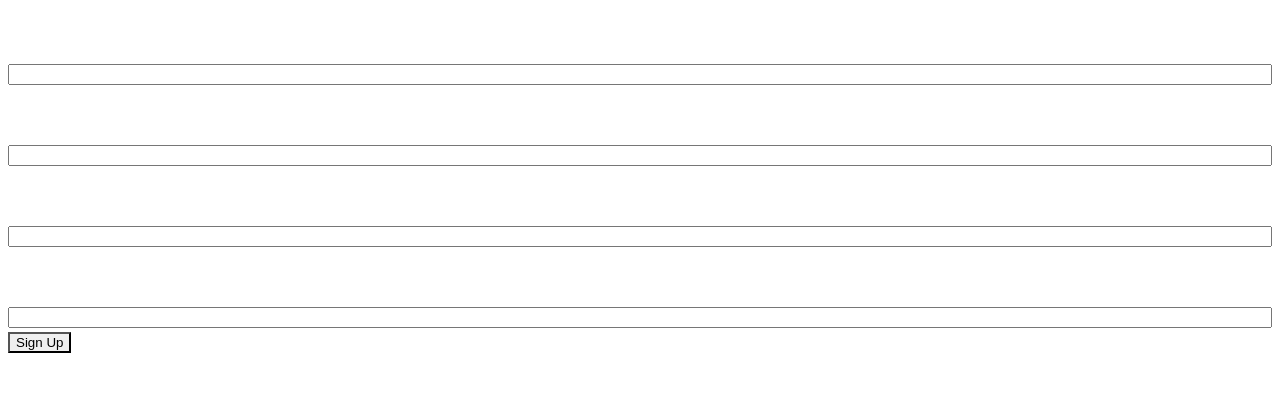
Test: SignUpForm › shows error message when signup fails
Note: Fill out required fields
Type "John Doe" into the field with test id "name-input". click: (640, 74)
box: x1=8 y1=64 x2=1272 y2=85
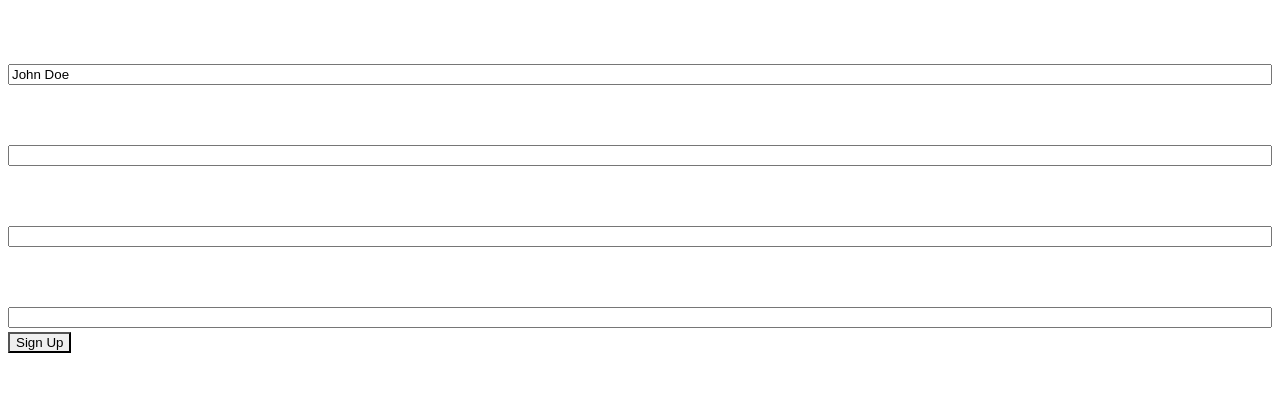
Type "john@example.com" into the field with test id "email-input". click: (640, 156)
box: x1=8 y1=145 x2=1272 y2=166
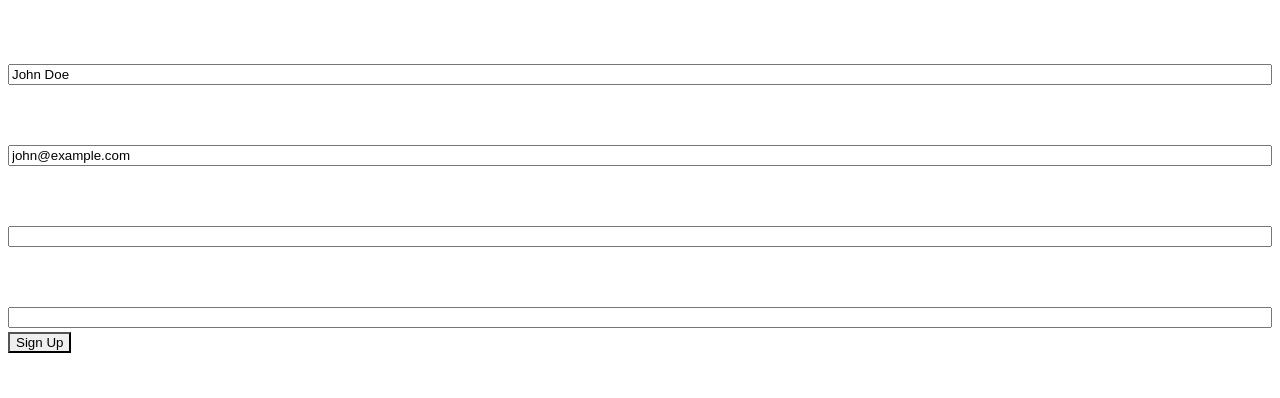
Type "Password123!" into the password field with test id "password-input". click: (640, 236)
box: x1=8 y1=226 x2=1272 y2=247
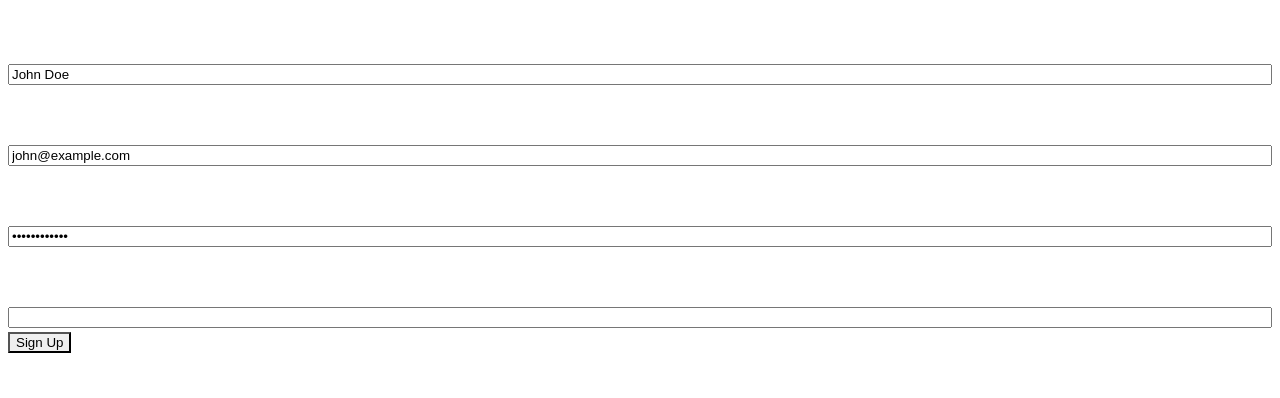
Type "Password123!" into the password field with test id "password-confirm-input". click: (640, 318)
box: x1=8 y1=307 x2=1272 y2=328
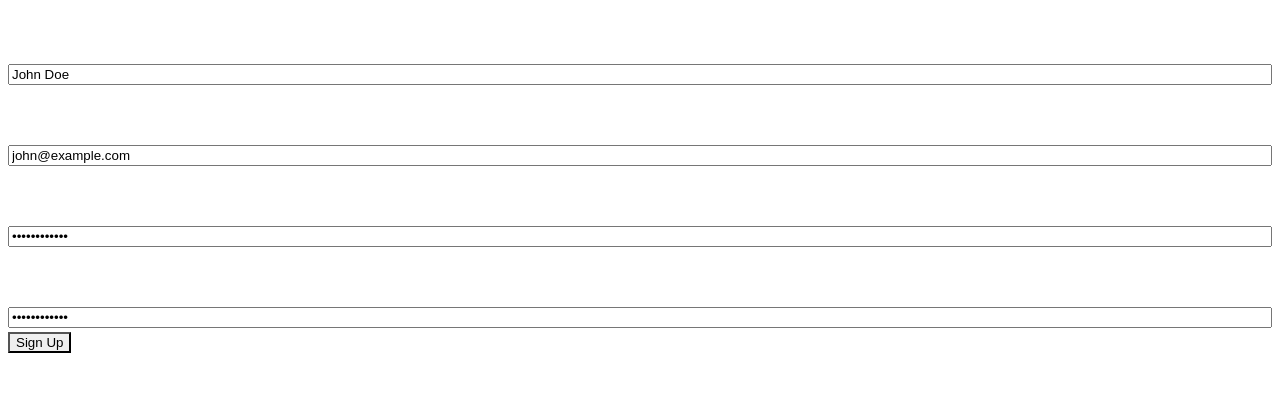
Note: Submit the form
Click the button with test id "signup-button". click: (40, 342)
box: x1=8 y1=332 x2=71 y2=353
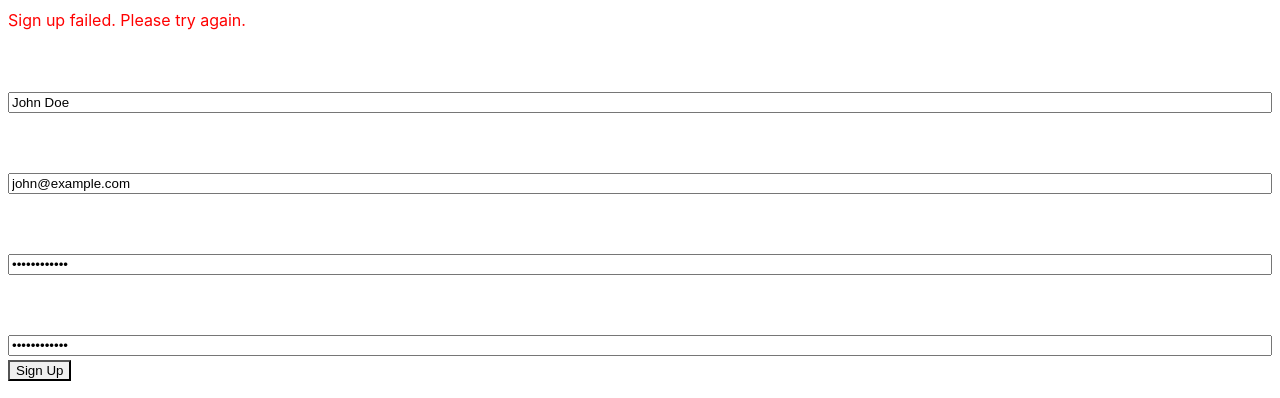
Expected: the text with test id "form-error" reads "Sign up failed. Please try again.", x1=8 y1=10 x2=246 y2=30
